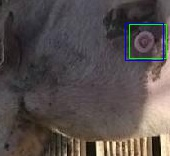text: (129, 24, 166, 58)
